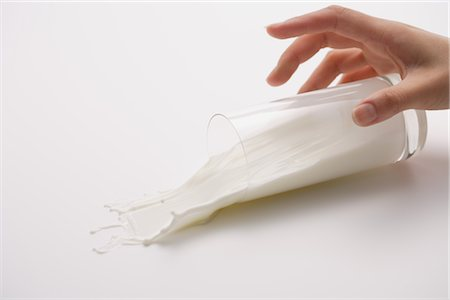glass of milk: (203, 75, 427, 190)
